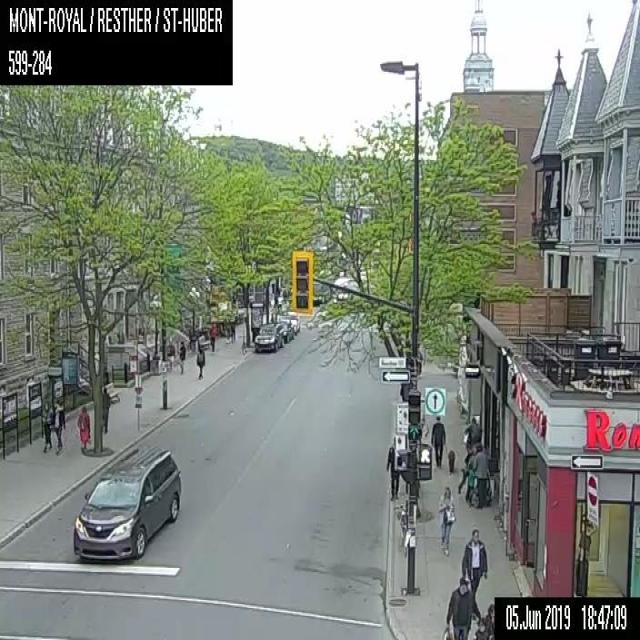pedestrian: (442, 578, 480, 638), (461, 527, 486, 603), (431, 415, 454, 472), (438, 485, 456, 555), (385, 435, 401, 500), (472, 442, 486, 508), (52, 398, 65, 454), (458, 452, 473, 498), (475, 602, 494, 638), (464, 416, 481, 456), (76, 405, 89, 448), (41, 402, 52, 451), (101, 387, 109, 432), (195, 347, 204, 378), (178, 340, 185, 373), (209, 326, 215, 351), (230, 321, 234, 342)
vehicle: (72, 445, 181, 561), (253, 323, 283, 352), (278, 318, 294, 341), (285, 310, 300, 333)
